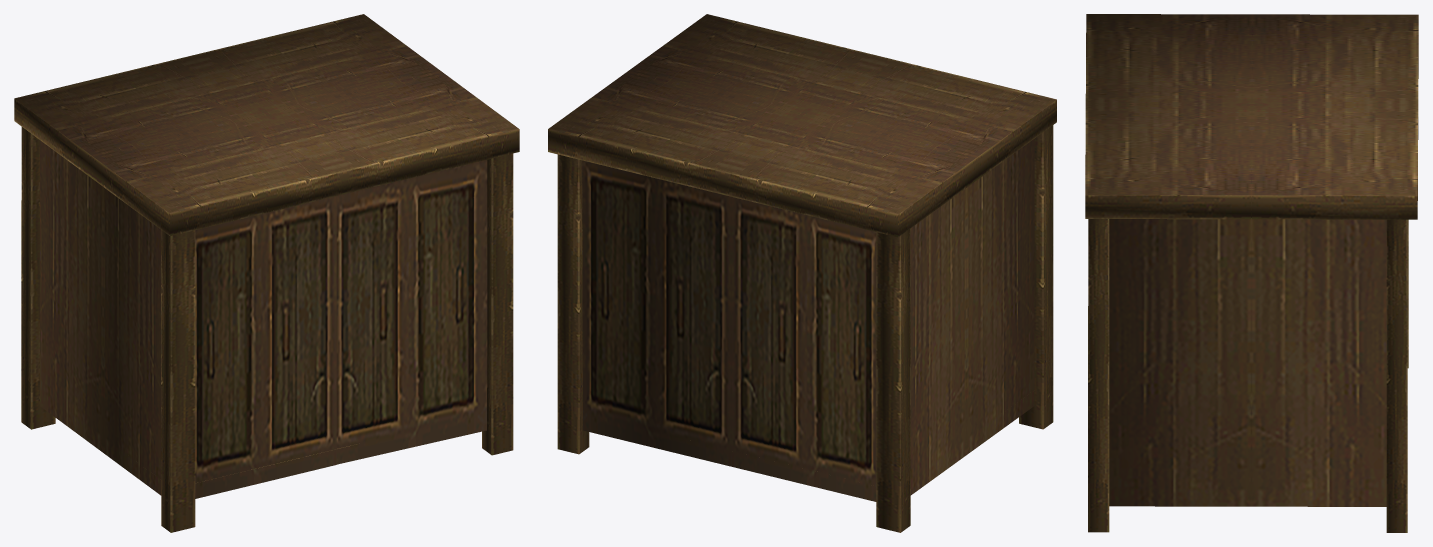
Rendered from Sark_1_Animation.FBX.
The picture shows the model from 3 angles, left to right: view 1: azimuth 30°, elevation 25°; view 2: azimuth 150°, elevation 25°; view 3: azimuth 270°, elevation 25°; orthographic projection. The views are drawn at different scales.
Visible parts, largest first — view 1: Sark_1, 对象001; view 2: Sark_1; view 3: Sark_1.
Boxes of the visible parts, x1=… form: Sark_1: x1=14, y1=14, x2=519, y2=532; 对象001: x1=336, y1=160, x2=487, y2=464; Sark_1: x1=548, y1=14, x2=1056, y2=532; Sark_1: x1=1085, y1=14, x2=1418, y2=532.
Size of the model in its own units: 88.46 by 77.57 by 68.85.
Materials: 1 (1 with a texture image).
